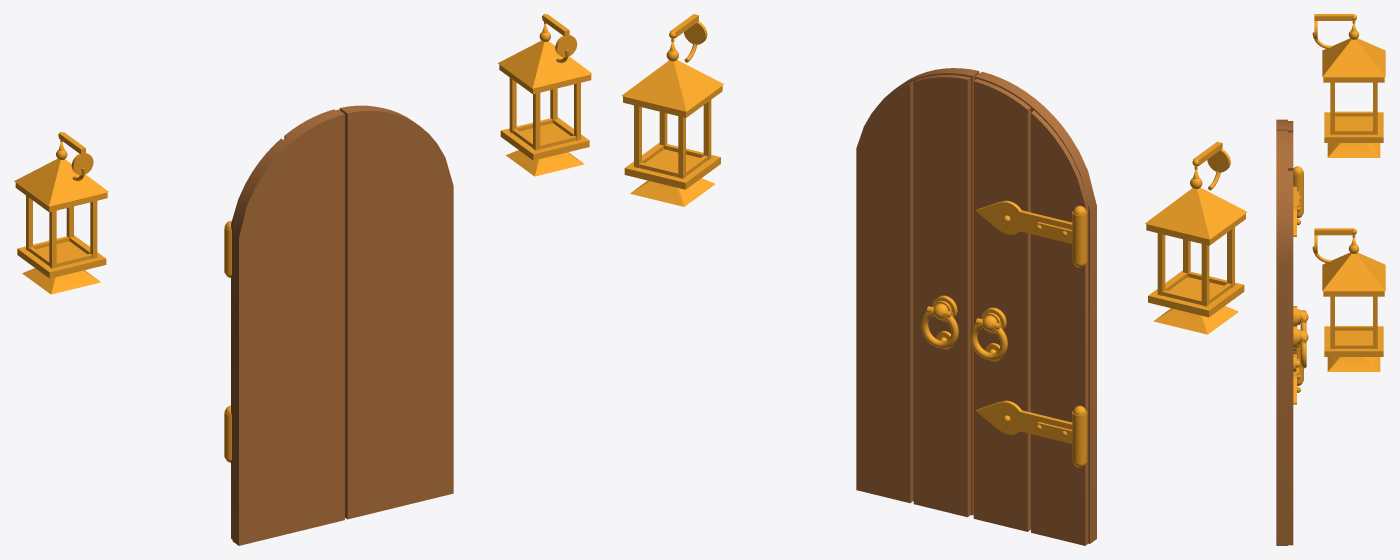
Rendered from HaloDomeHouse_12_ornaments.glb.
3 views of the same model, side by side, from view 1: azimuth 30°, elevation 25°; view 2: azimuth 150°, elevation 25°; view 3: azimuth 270°, elevation 25° (orthographic). The views are drawn at different scales.
Visible parts, largest first — view 1: Orn_HaloDomeHouse_12_Leaf0, Orn_HaloDomeHouse_12_Leaf1, Orn_HaloDomeHouse_12_Lantern1, Orn_HaloDomeHouse_12_Lantern0; view 2: Orn_HaloDomeHouse_12_Leaf1, Orn_HaloDomeHouse_12_Leaf0, Orn_HaloDomeHouse_12_Lantern0, Orn_HaloDomeHouse_12_Lantern1, Orn_HaloDomeHouse_12_Hinge0, Orn_HaloDomeHouse_12_Hinge1, Orn_HaloDomeHouse_12_Knob0, Orn_HaloDomeHouse_12_Knob1; view 3: Orn_HaloDomeHouse_12_Leaf1, Orn_HaloDomeHouse_12_Lantern0, Orn_HaloDomeHouse_12_Lantern1, Orn_HaloDomeHouse_12_Hinge1, Orn_HaloDomeHouse_12_Knob1, Orn_HaloDomeHouse_12_Hinge0, Orn_HaloDomeHouse_12_Knob0, Orn_HaloDomeHouse_12_Leaf0.
Part boxes in pixels (x1,y1,x2,y2): Orn_HaloDomeHouse_12_Leaf0: (231, 109, 344, 545); Orn_HaloDomeHouse_12_Leaf1: (339, 105, 453, 519); Orn_HaloDomeHouse_12_Lantern1: (498, 14, 592, 176); Orn_HaloDomeHouse_12_Lantern0: (14, 132, 108, 294); Orn_HaloDomeHouse_12_Leaf1: (856, 68, 979, 517); Orn_HaloDomeHouse_12_Leaf0: (973, 71, 1096, 545); Orn_HaloDomeHouse_12_Lantern0: (1145, 141, 1247, 334); Orn_HaloDomeHouse_12_Lantern1: (621, 14, 723, 206); Orn_HaloDomeHouse_12_Hinge0: (976, 400, 1087, 467); Orn_HaloDomeHouse_12_Hinge1: (976, 200, 1087, 267); Orn_HaloDomeHouse_12_Knob0: (970, 307, 1007, 361); Orn_HaloDomeHouse_12_Knob1: (921, 295, 958, 349); Orn_HaloDomeHouse_12_Leaf1: (1276, 130, 1293, 545); Orn_HaloDomeHouse_12_Lantern0: (1312, 14, 1385, 157); Orn_HaloDomeHouse_12_Lantern1: (1312, 228, 1385, 371); Orn_HaloDomeHouse_12_Hinge1: (1293, 166, 1303, 236); Orn_HaloDomeHouse_12_Knob1: (1293, 326, 1308, 371); Orn_HaloDomeHouse_12_Hinge0: (1293, 345, 1303, 404); Orn_HaloDomeHouse_12_Knob0: (1293, 306, 1308, 351); Orn_HaloDomeHouse_12_Leaf0: (1276, 119, 1293, 132).
Size of the model in its own units: 10.8 by 7.88 by 2.07.
